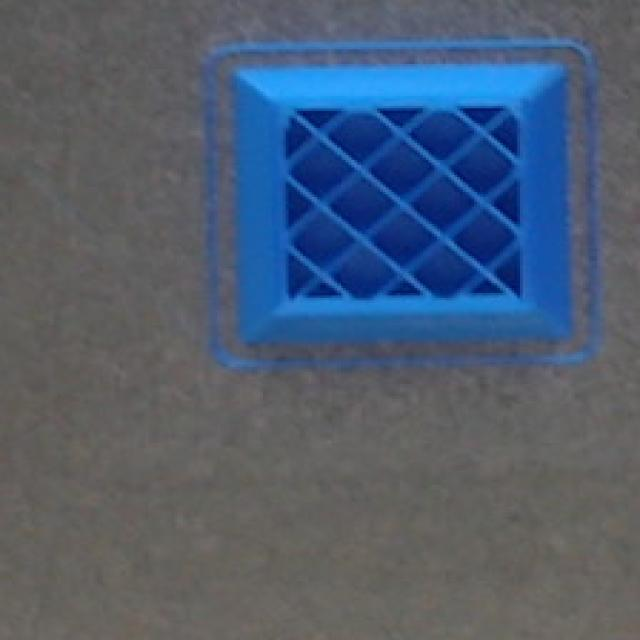noMistake: (192, 35, 620, 386)
